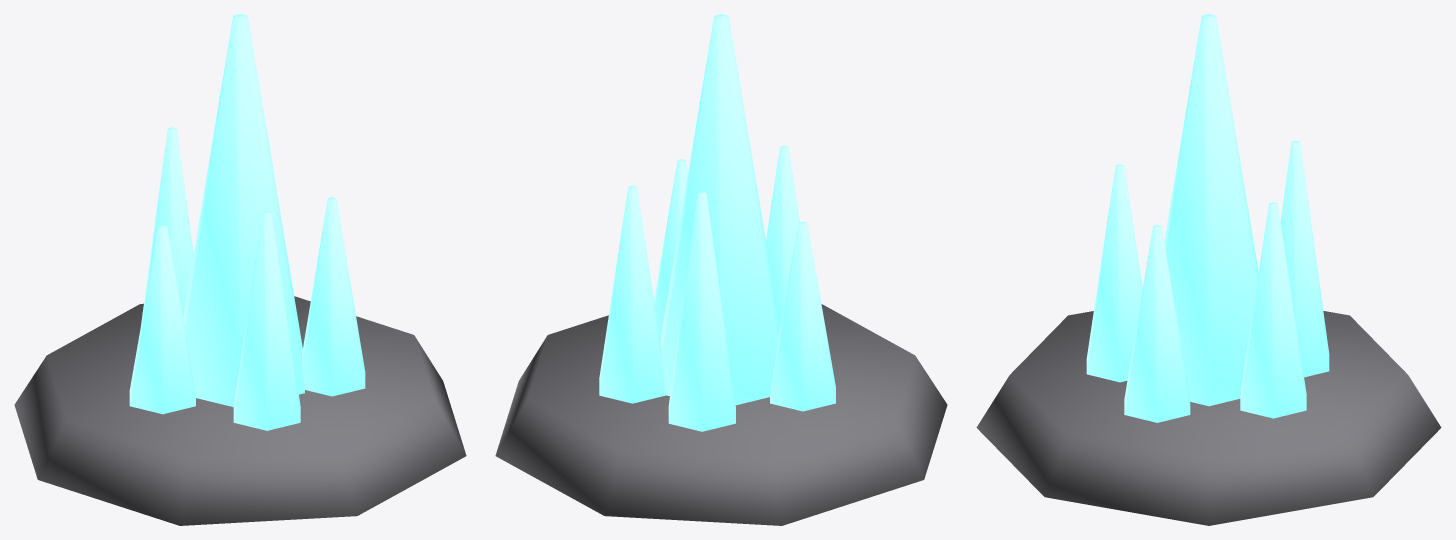
The picture shows the model from 3 angles, left to right: view 1: azimuth 30°, elevation 25°; view 2: azimuth 150°, elevation 25°; view 3: azimuth 270°, elevation 25°; orthographic projection.
Parts seen in each view (by area): view 1: Generated3DMesh; view 2: Generated3DMesh; view 3: Generated3DMesh.
Boxes of the visible parts, x1,y1,x2,y2 form: Generated3DMesh: (14, 14, 466, 525); Generated3DMesh: (495, 14, 947, 525); Generated3DMesh: (976, 14, 1441, 525).
Bounding box in the file's own units: 2.8 × 2.73 × 2.8.
